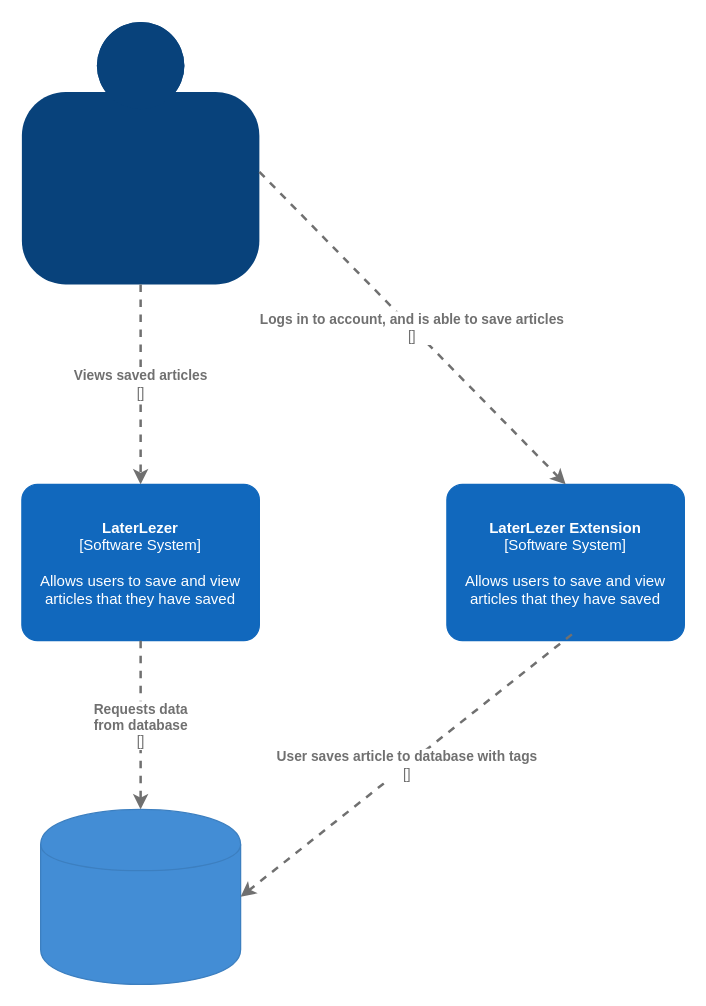
Some shapes in this 706 by 1006 pixel diagram are drawn without their labels. The centre of each missing label's shape, as x and y in pixels:
"Database [Container: MongoDB] LaterLezer database" belongs at [140,896].
"LaterLezer User [Person] A user that wants to save articles" belongs at [140,152].
